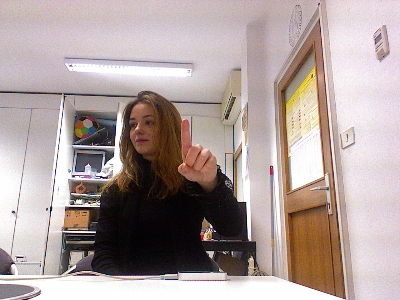食指: (176, 117, 218, 183)
